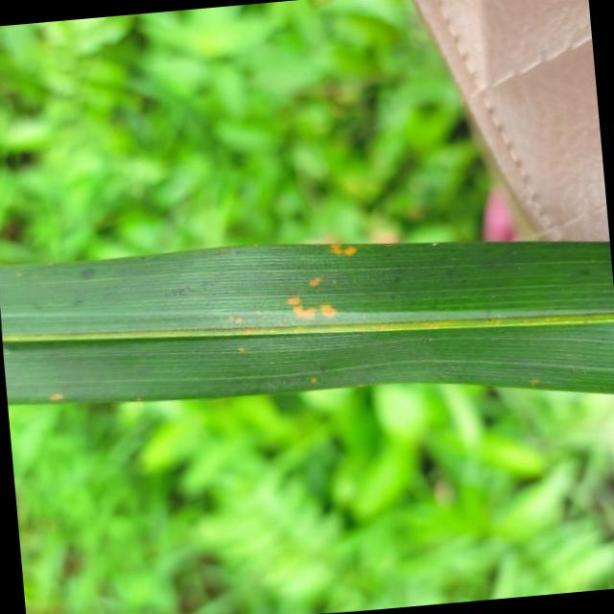Boron: (0, 240, 614, 406)
